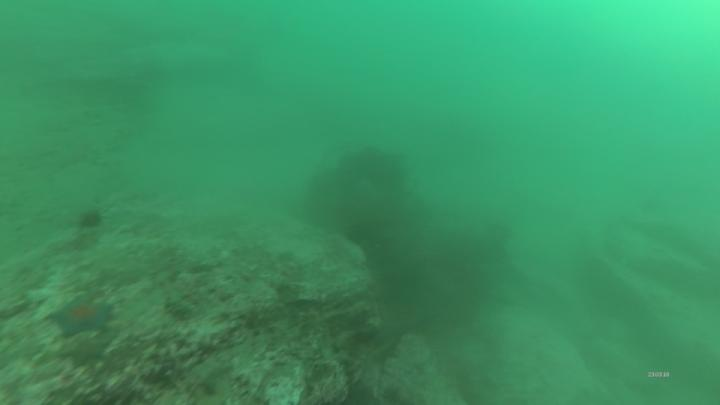echinus: (77, 212, 102, 227)
starfish: (50, 296, 112, 338)
